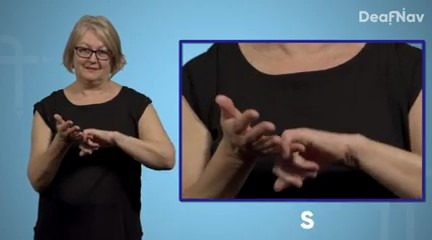S: (50, 106, 124, 162)
